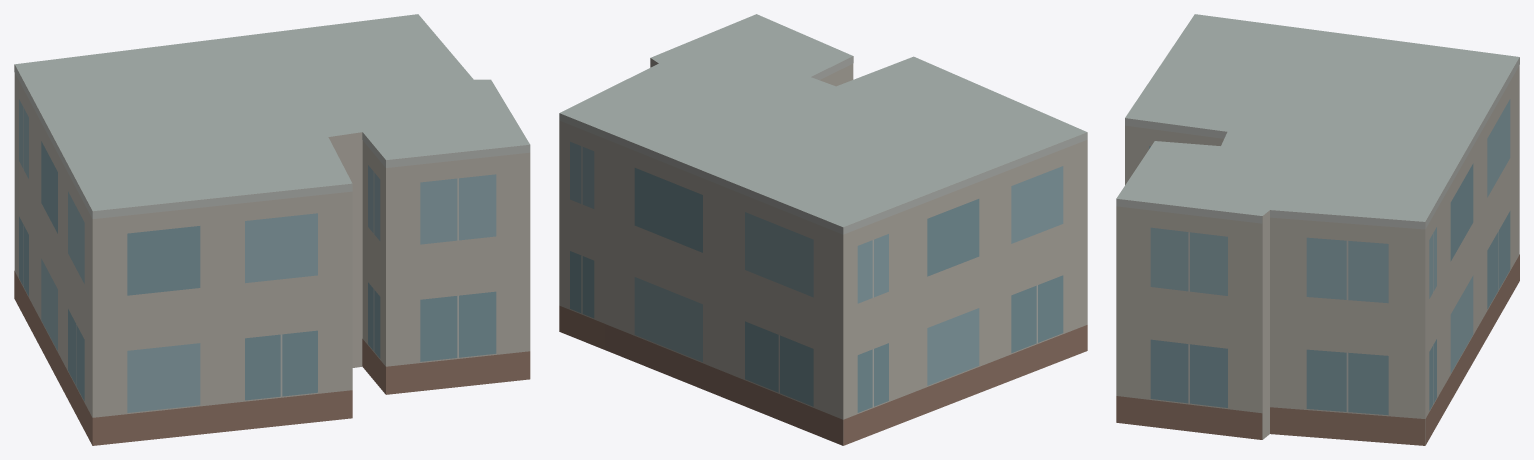
Rendered from survey-upis-32927379.glb.
3 renders of one model, left to right at view 1: azimuth 30°, elevation 25°; view 2: azimuth 150°, elevation 25°; view 3: azimuth 270°, elevation 25°, orthographic. The views are drawn at different scales.
Parts seen in each view (by area): view 1: survey-upis-32927379.tmp; view 2: survey-upis-32927379.tmp; view 3: survey-upis-32927379.tmp.
Part boxes in pixels (box(x1,y1,x2,y2)): survey-upis-32927379.tmp: box(14, 14, 530, 445); survey-upis-32927379.tmp: box(559, 14, 1087, 445); survey-upis-32927379.tmp: box(1116, 14, 1519, 445).
Bounding box in the file's own units: 14.35 × 7.2 × 11.77.
